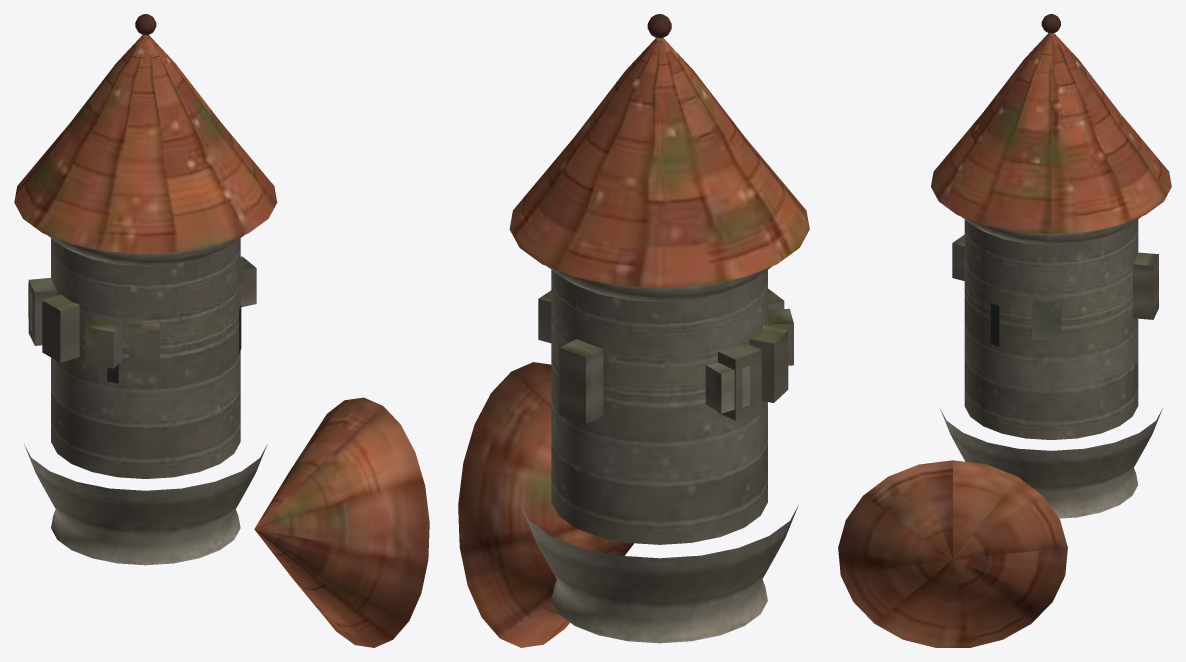
Rendered from starfort_sentry_box_live.glb.
The picture shows the model from 3 angles, left to right: view 1: azimuth 30°, elevation 25°; view 2: azimuth 150°, elevation 25°; view 3: azimuth 270°, elevation 25°; orthographic projection. The views are drawn at different scales.
Visible parts, largest first — view 1: intact, breached; view 2: intact, breached; view 3: intact, breached.
Boxes of the visible parts, x1,y1,x2,y2 form: intact: (14,14,277,565); breached: (28,256,429,647); intact: (509,14,809,643); breached: (458,288,793,647); intact: (931,14,1171,518); breached: (838,234,1158,647).
Size of what is drawn, in the model's own units: 2.23 by 4.46 by 2.38.
Materials: 1 (1 with a texture image).
